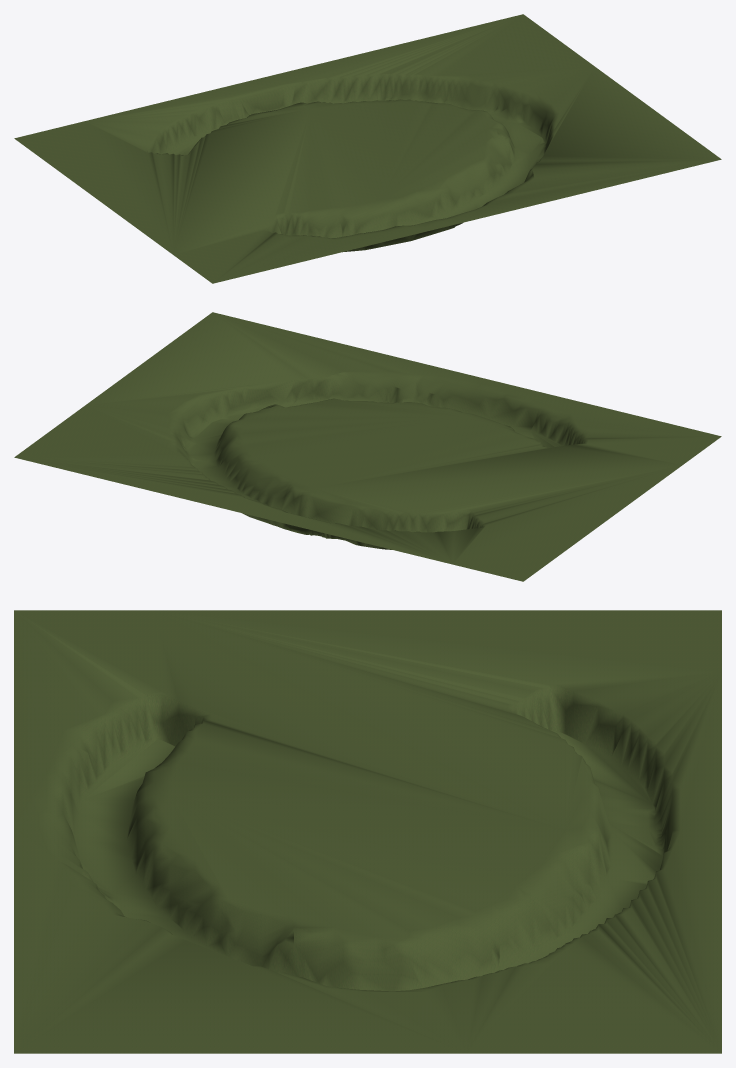
File: ground.fbx
3 views of the same model, one above another, from view 1: azimuth 30°, elevation 25°; view 2: azimuth 150°, elevation 25°; view 3: azimuth 270°, elevation 25° (orthographic). The views are drawn at different scales.
Visible parts, largest first — view 1: ground001; view 2: ground001; view 3: ground001.
Boxes of the visible parts, left/top/right/bottom form: ground001: left=14, top=14, right=721, bottom=283; ground001: left=14, top=312, right=721, bottom=581; ground001: left=14, top=610, right=721, bottom=1053.
Bounding box in the file's own units: 3795 × 162 × 2563.
